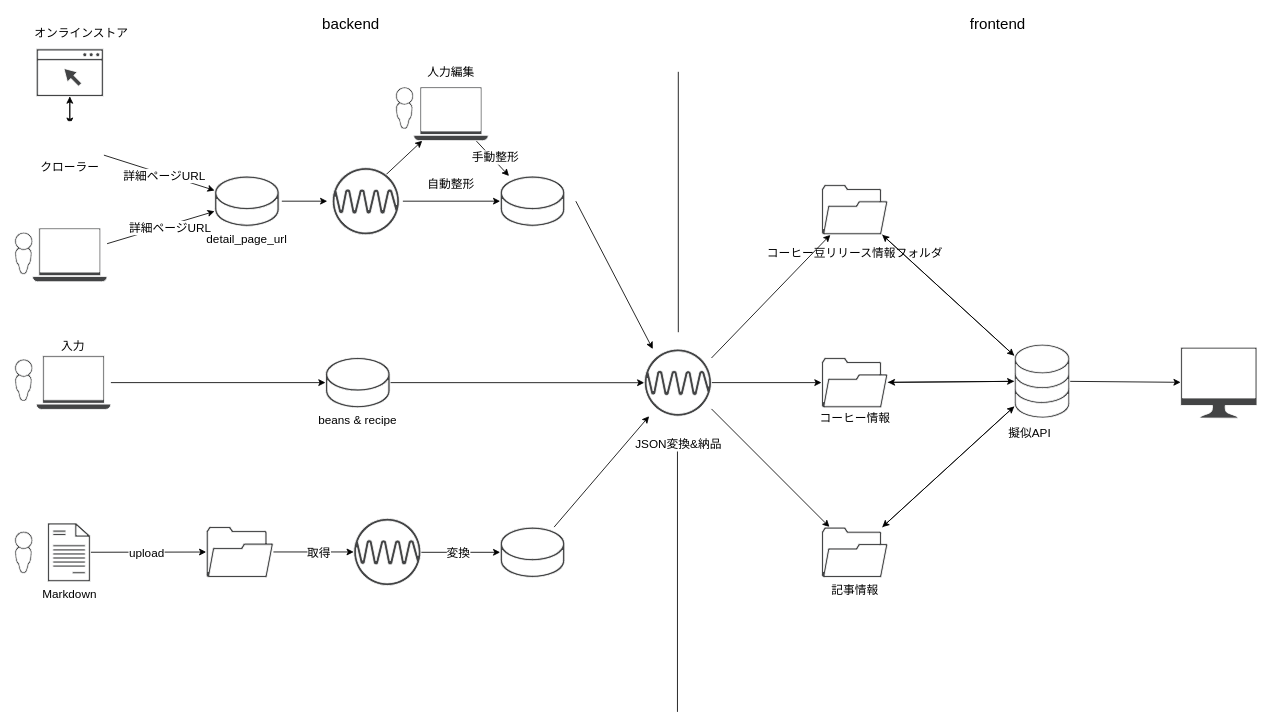
Some shapes in this 1272 by 727 pixel diagram are drawn without their labels. The centre of each missing label's shape, as x and y in pixels:
article: the point at 532,552
processed_data: the point at 532,200
